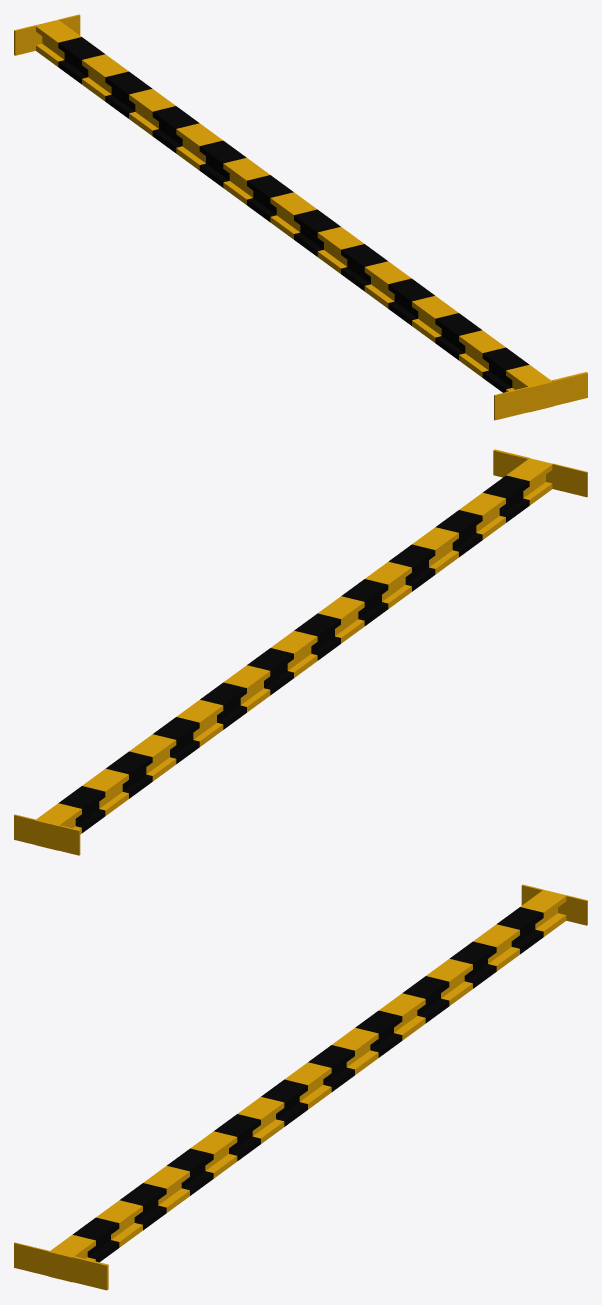
Rendered from Crane_Pole.fbx.
3 renders of one model, top to bottom at view 1: azimuth 30°, elevation 25°; view 2: azimuth 150°, elevation 25°; view 3: azimuth 330°, elevation 25°, orthographic.
Parts seen in each view (by area): view 1: Crane_Pole; view 2: Crane_Pole; view 3: Crane_Pole.
Part boxes in pixels (<box>): Crane_Pole: <box>14,14,587,420</box>; Crane_Pole: <box>14,449,587,855</box>; Crane_Pole: <box>14,884,587,1290</box>.
Size of the model in its own units: 790 by 203 by 7275.
